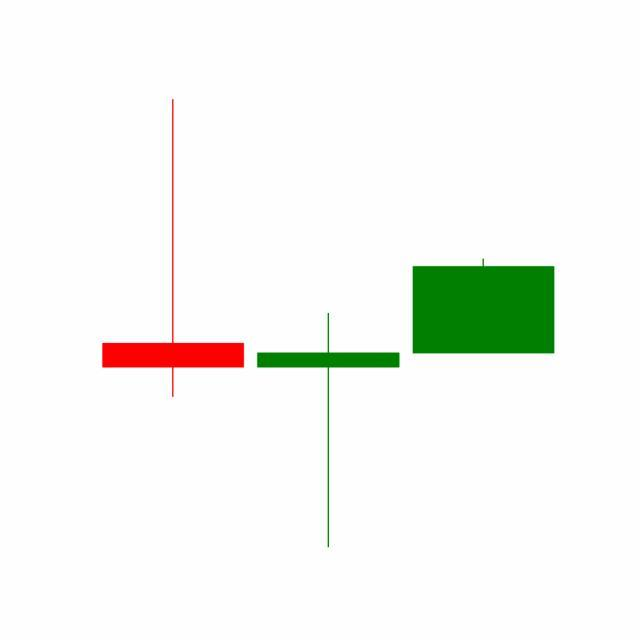Marubozu: (406, 258, 562, 355)
